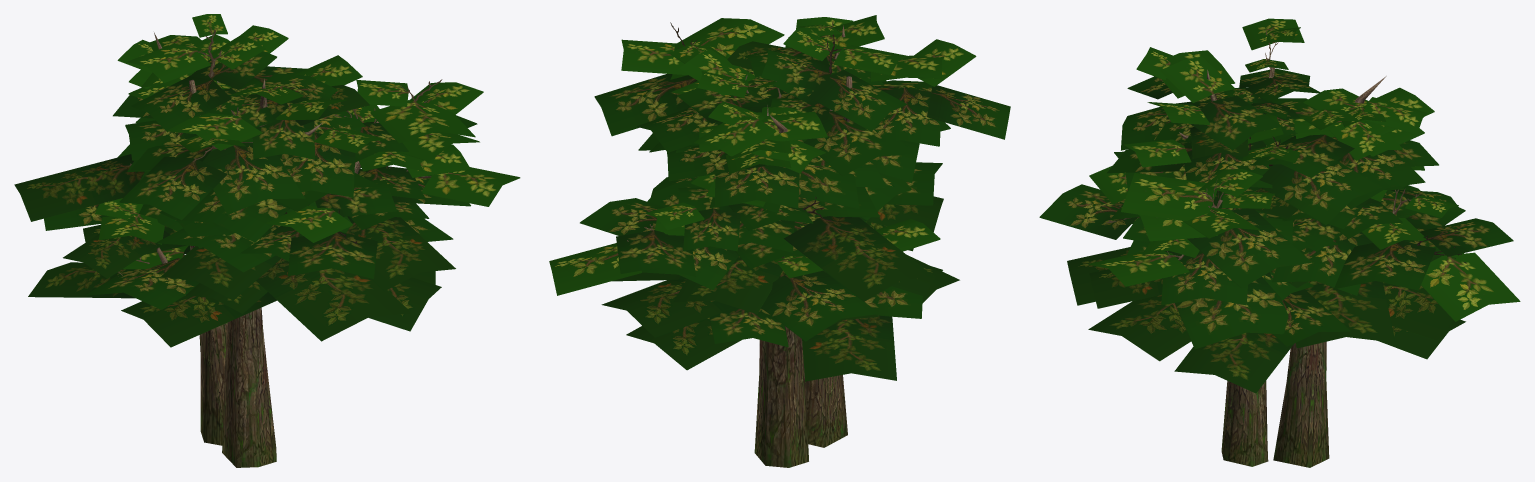
File: Dingqingchuan_wujian_06.FBX
3 renders of one model, left to right at view 1: azimuth 30°, elevation 25°; view 2: azimuth 150°, elevation 25°; view 3: azimuth 270°, elevation 25°, orthographic. The views are drawn at different scales.
Visible parts, largest first — view 1: Box04, Box05, Box01; view 2: Box04, Box05; view 3: Box04, Box05, Box01.
Part boxes in pixels (box(x1,y1,x2,y2)): Box04: box(14, 14, 520, 347); Box05: box(154, 32, 378, 467); Box01: box(118, 30, 442, 276); Box04: box(549, 15, 1010, 381); Box05: box(754, 25, 852, 467); Box04: box(1039, 18, 1520, 393); Box05: box(1179, 67, 1386, 467); Box01: box(1106, 29, 1467, 264).
Bounding box in the file's own units: 6.49 × 6.85 × 7.13.
